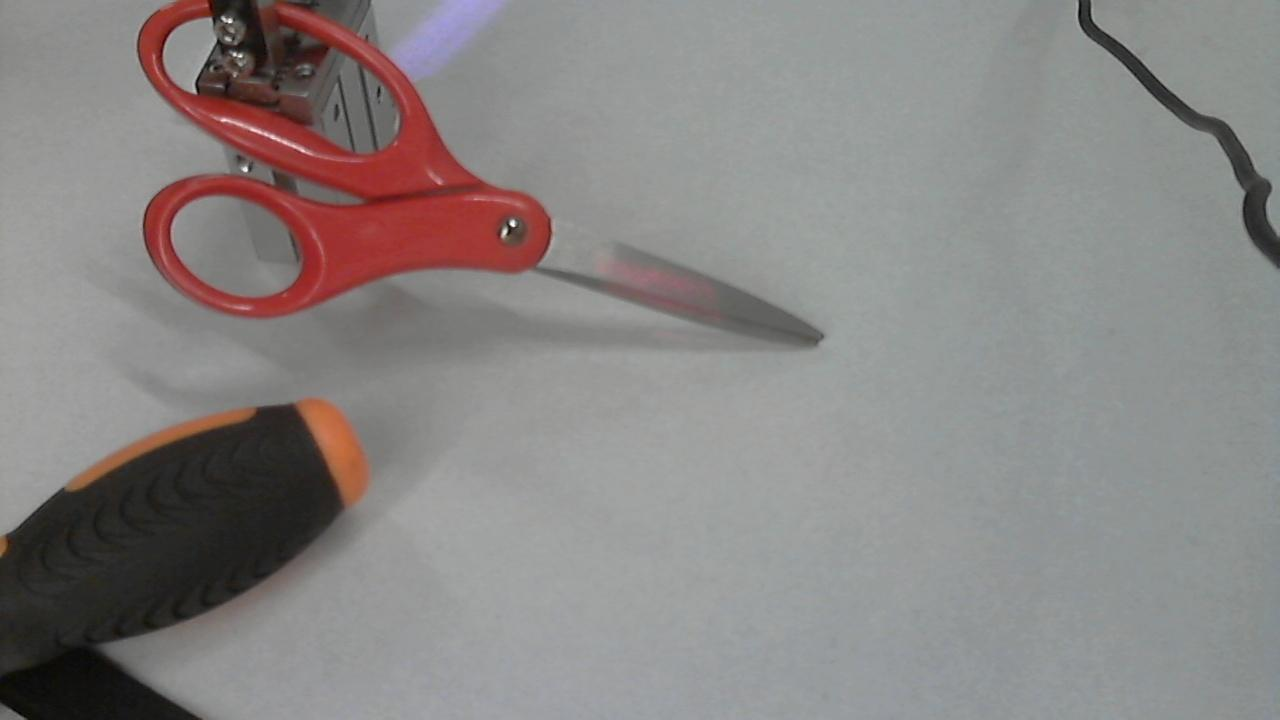Object tabletop - Material composite plastic - Pdfname jhjasdfwat: (592, 233, 745, 337)
